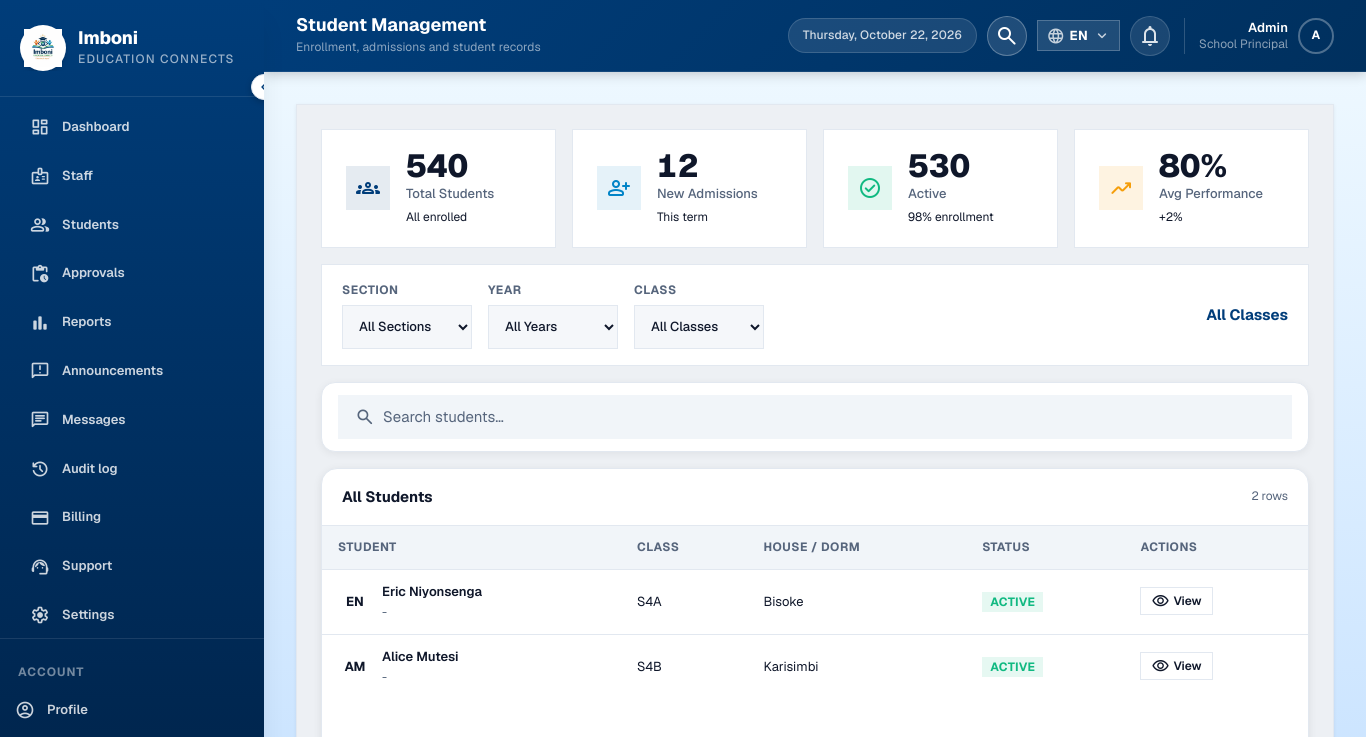
Test: AdminStudents › shows the no-attendance-data message when attendance stats are unavailable
Expected: the text "Eric Niyonsenga" is shown, [382, 582, 482, 603]
Step 1. Click the button "View" in the row of "Eric Niyonsenga" → (1176, 601), box [1140, 587, 1212, 615]
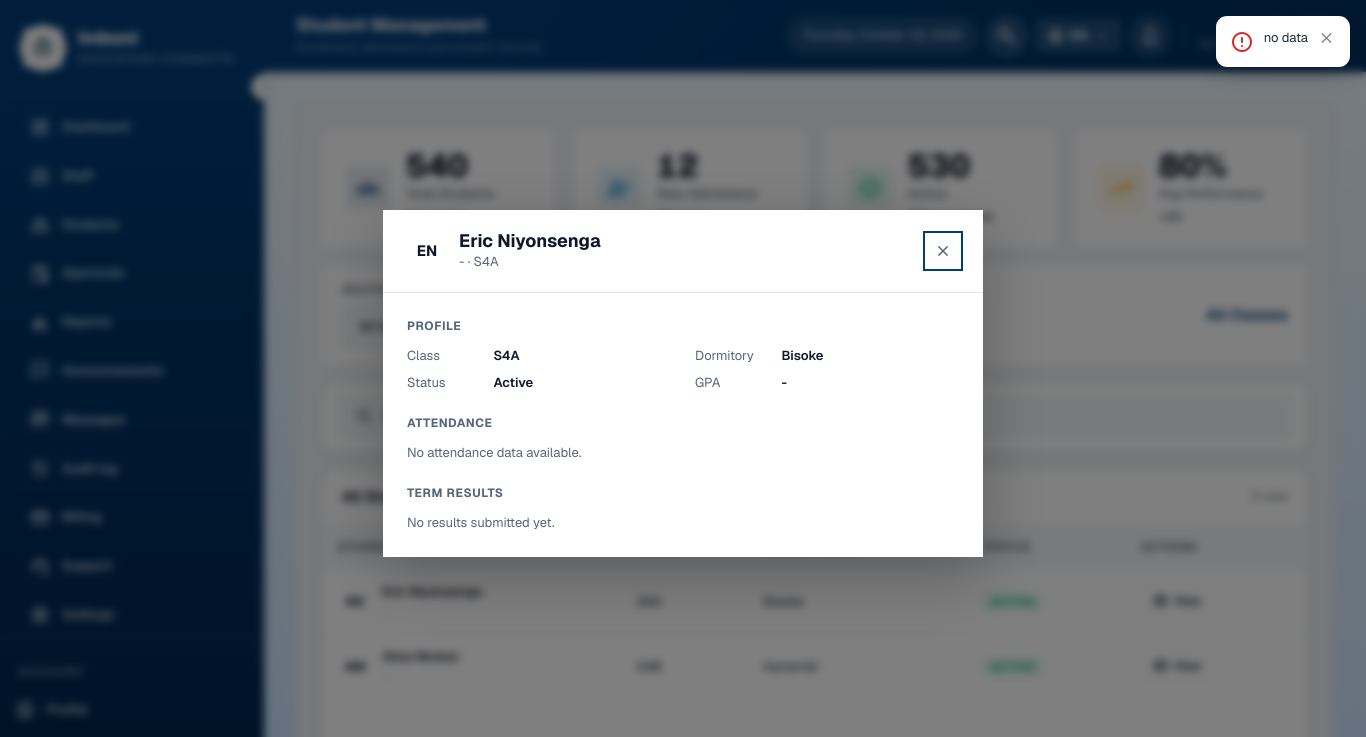
Now the text "No attendance data available." is shown, box [407, 444, 581, 461]
Now the text "No results submitted yet." is shown, box [407, 514, 555, 531]
